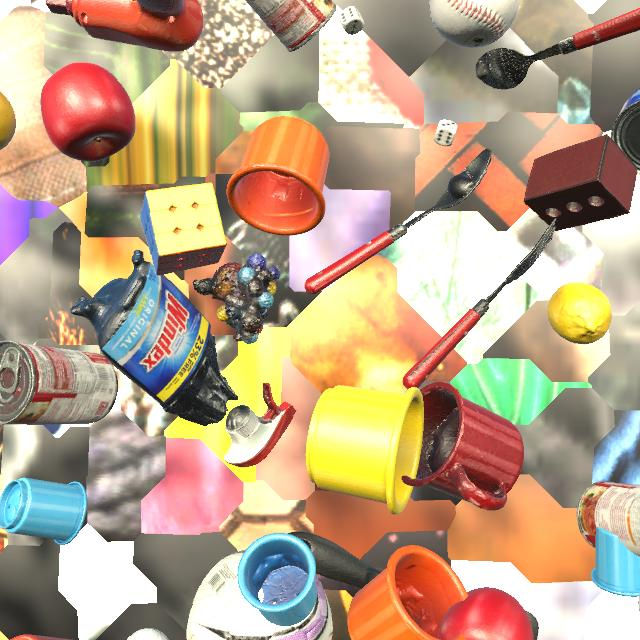ycb_005_tomato_soup_can: (0, 341, 118, 425), (245, 0, 337, 52), (577, 481, 640, 556)
ycb_006_mustard_bottle: (639, 611, 640, 613)
ycb_007_tuna_fish_can: (611, 88, 640, 174)
ycb_013_apple: (41, 62, 136, 162), (438, 587, 534, 640)
ycb_014_lemon: (547, 282, 612, 344)
ycb_015_peach: (0, 92, 16, 150)
